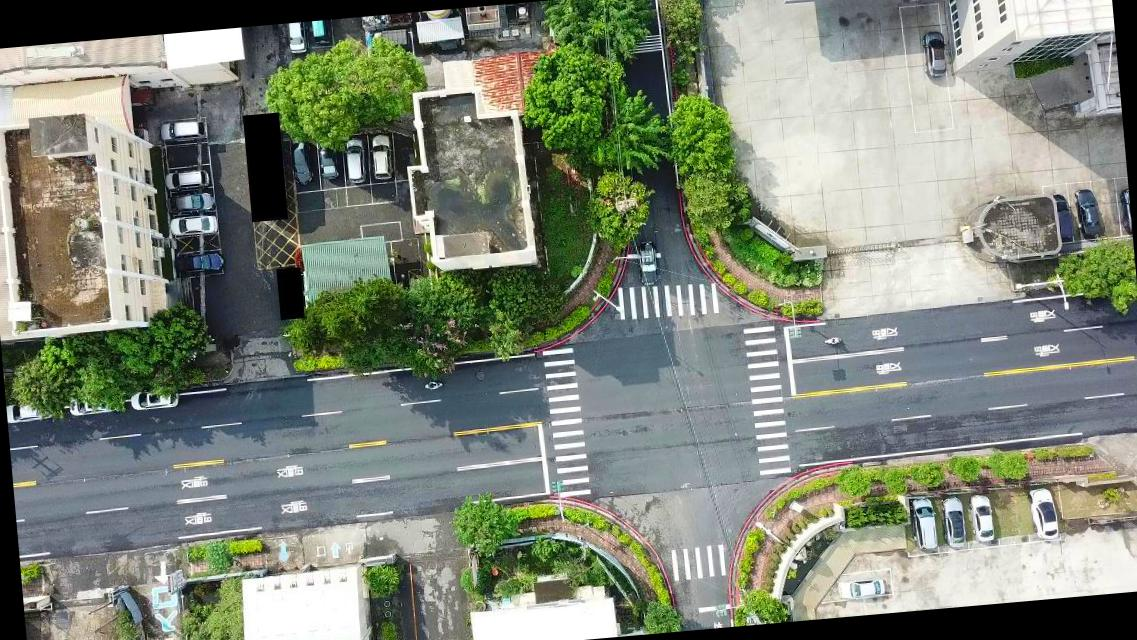vehicle: (1025, 486, 1058, 540), (940, 494, 968, 549), (1074, 187, 1102, 240), (910, 495, 936, 551), (920, 30, 950, 78), (968, 492, 994, 544), (156, 119, 208, 144), (316, 134, 341, 184), (6, 399, 56, 424), (164, 192, 216, 216), (66, 393, 118, 417), (286, 139, 313, 185), (160, 167, 211, 190), (167, 215, 218, 238), (174, 252, 224, 275), (131, 388, 178, 412), (636, 240, 660, 286), (344, 138, 367, 185), (835, 576, 884, 598), (371, 135, 393, 181), (1053, 194, 1073, 242)
